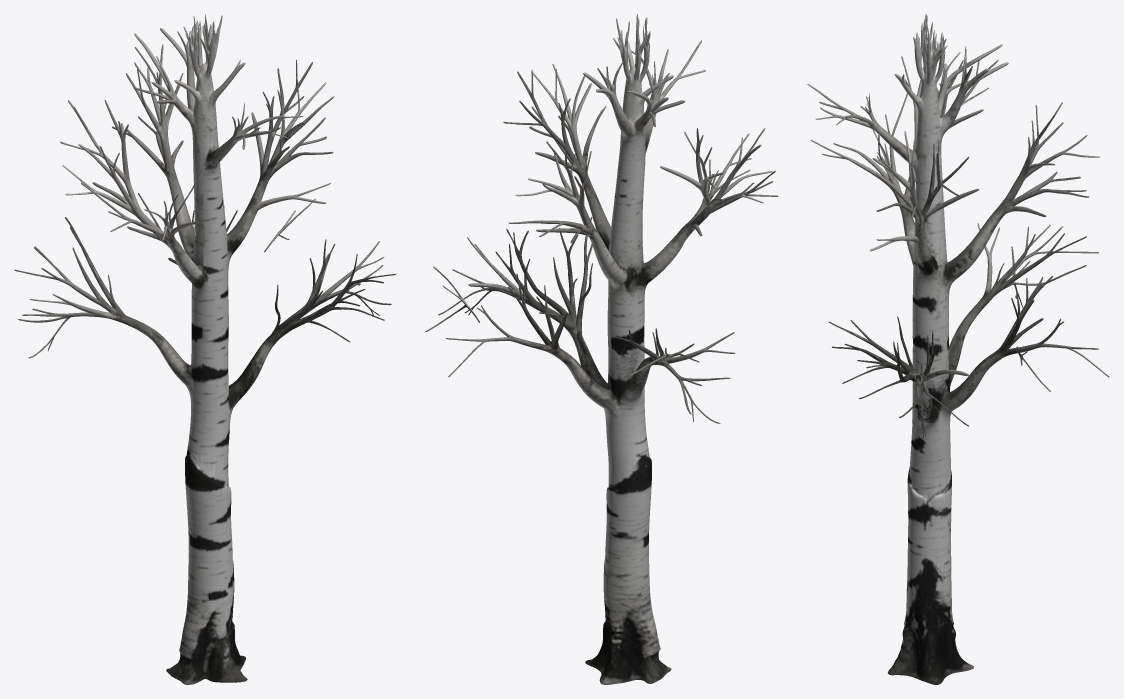
File: prop_birch.glb
The picture shows the model from 3 angles, left to right: view 1: azimuth 30°, elevation 25°; view 2: azimuth 150°, elevation 25°; view 3: azimuth 270°, elevation 25°; orthographic projection. The views are drawn at different scales.
Visible parts, largest first — view 1: node_0; view 2: node_0; view 3: node_0.
Part boxes in pixels (<box>): node_0: <box>14,14,396,684</box>; node_0: <box>425,14,778,684</box>; node_0: <box>807,14,1109,684</box>.
Bounding box in the file's own units: 0.5988 × 1.18 × 0.5004.
Materials: 1 (1 with a texture image).
